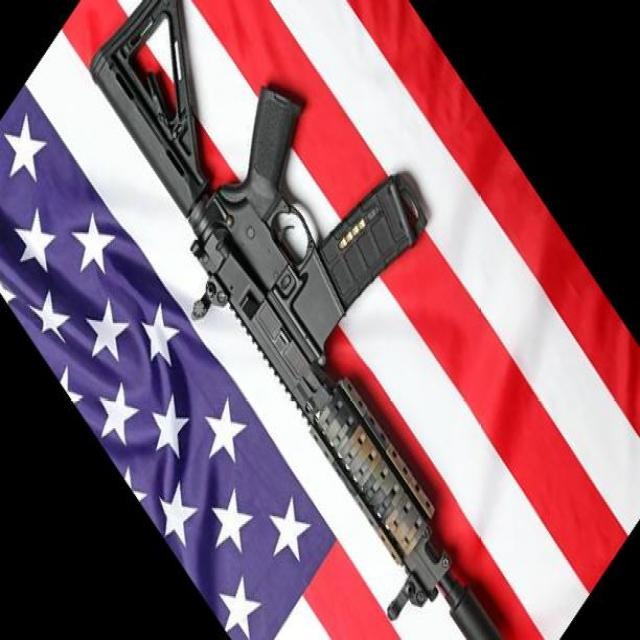heavy-weapon: (90, 0, 501, 640)
